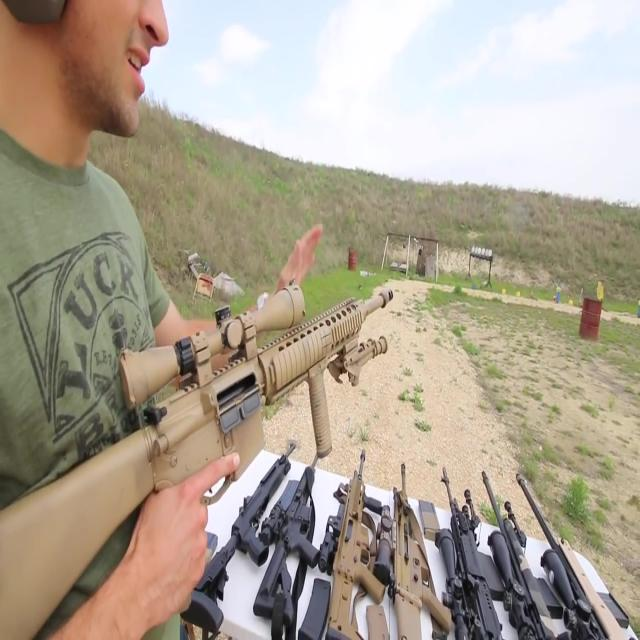Weapon: (0, 270, 477, 638), (143, 358, 640, 639)
